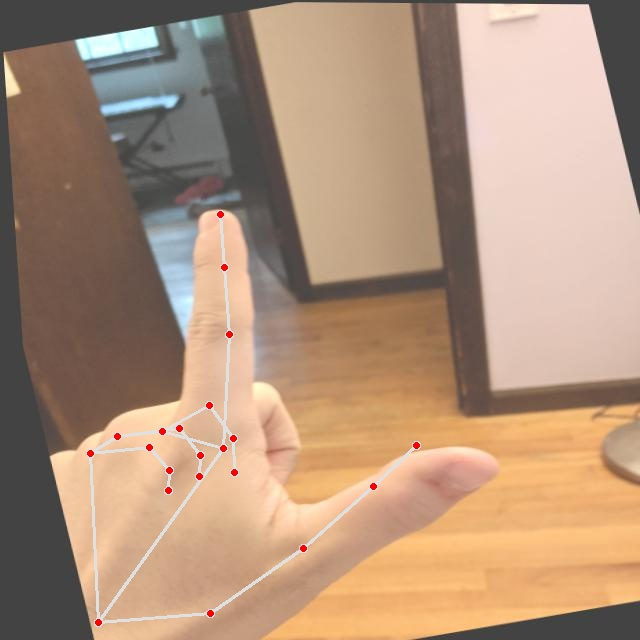L: (8, 161, 543, 639)
